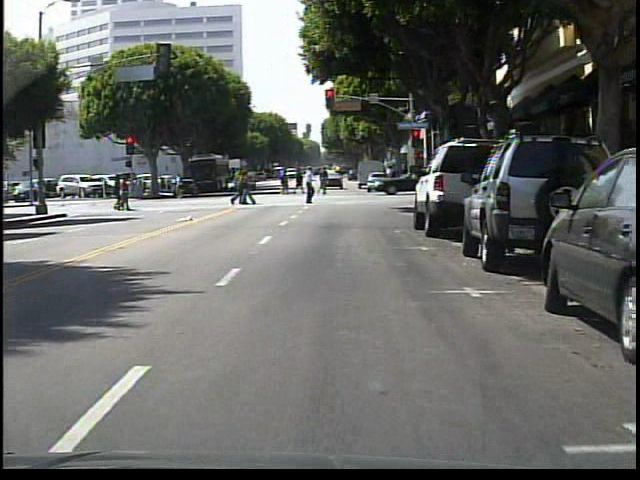person: (299, 165, 320, 207), (171, 169, 190, 199), (314, 167, 333, 196)
